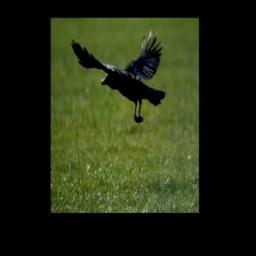Crow: (71, 26, 166, 123)
